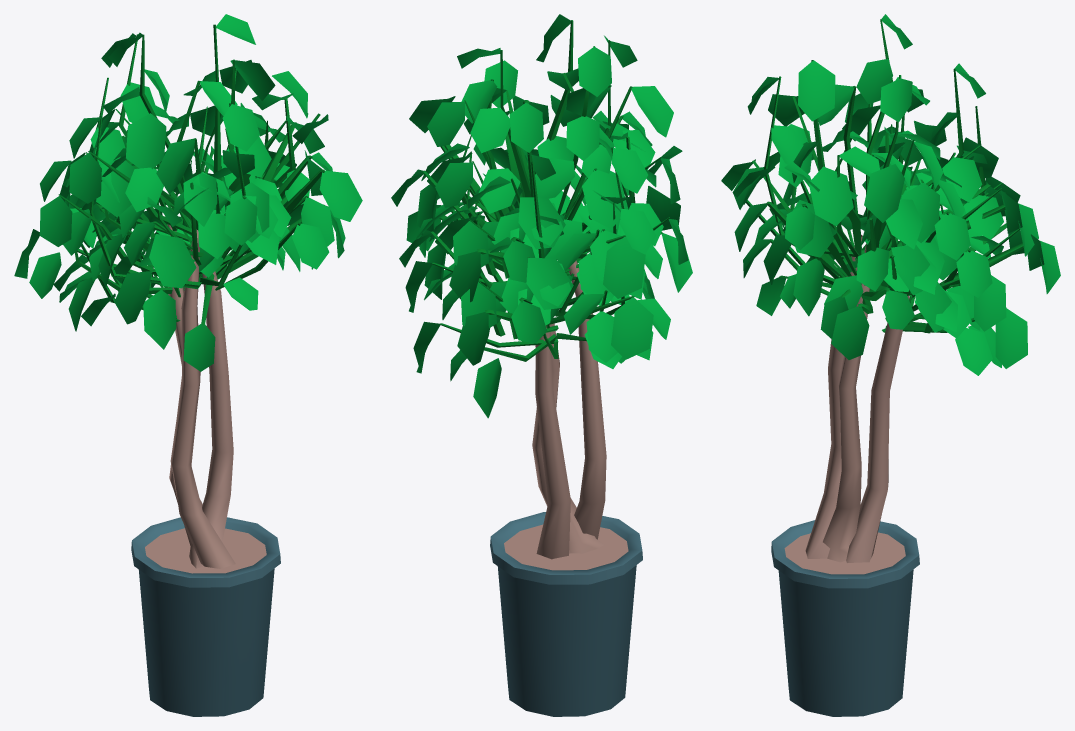
The model's file is flower_027.glb.
3 views of the same model, side by side, from view 1: azimuth 30°, elevation 25°; view 2: azimuth 150°, elevation 25°; view 3: azimuth 270°, elevation 25° (orthographic). The views are drawn at different scales.
Visible parts, largest first — view 1: flower_027; view 2: flower_027; view 3: flower_027.
Part boxes in pixels (x1=…): flower_027: x1=14, y1=14, x2=362, y2=716; flower_027: x1=391, y1=14, x2=692, y2=716; flower_027: x1=721, y1=14, x2=1060, y2=716.
Bounding box in the file's own units: 0.7802 × 1.68 × 0.7947.
1 material, 1 textured.
